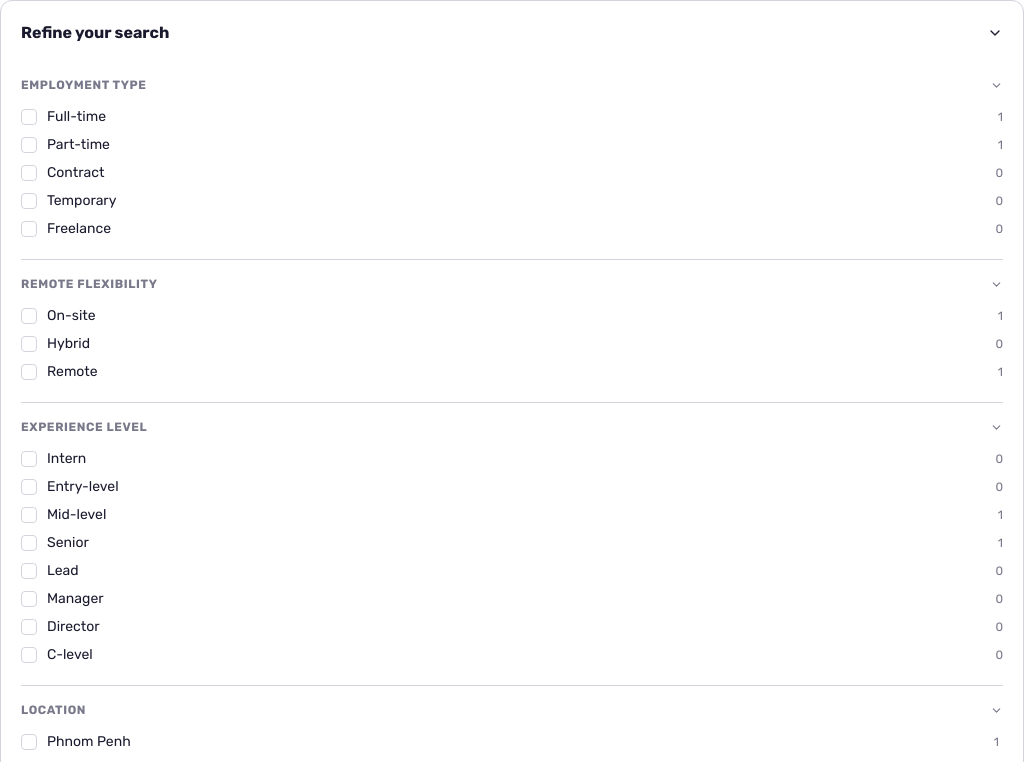
Scenario: JobFilters collapsible panel › collapses one sub-section without touching its neighbours or the panel
The width and height of the screenshot is (1024, 762).
Click the button "Employment Type" at (84, 85), box [15,75,1009,95]
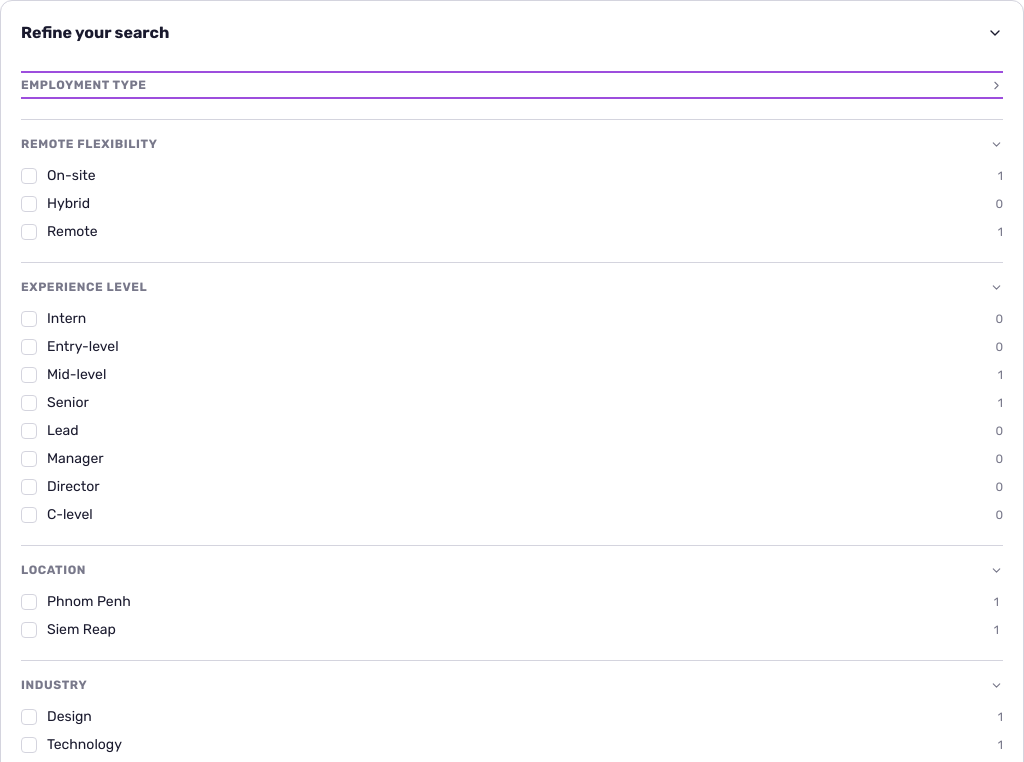
Check: the button "Employment Type" is collapsed, box [21,75,1003,95]
